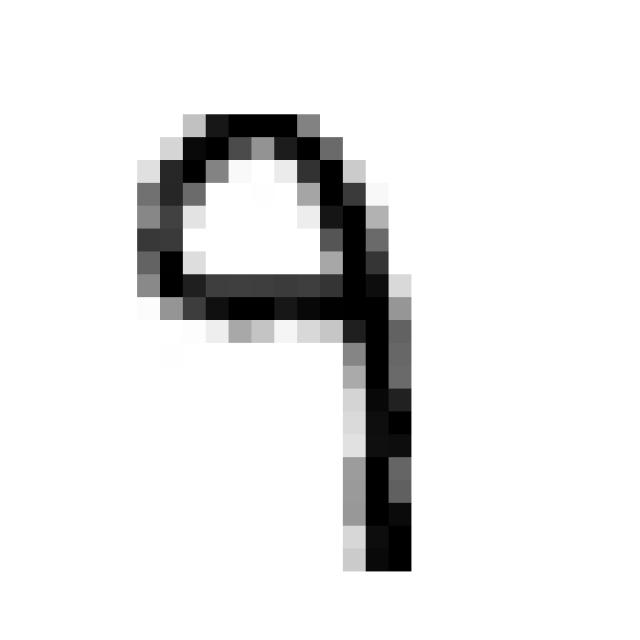9 -nine-: (116, 91, 436, 592)
